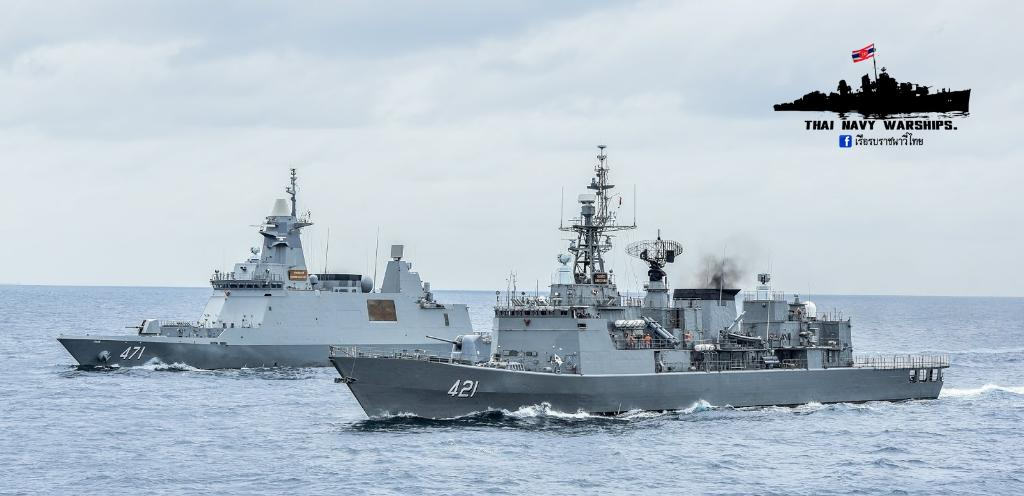Warship: (322, 212, 960, 432), (50, 192, 478, 382)
